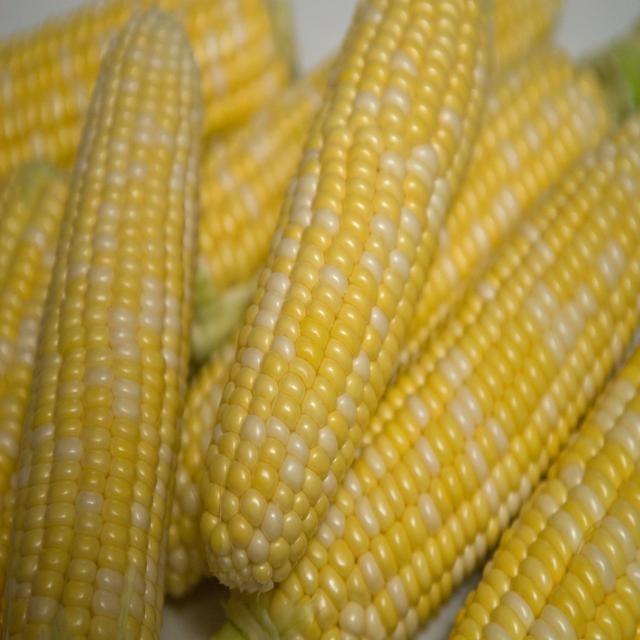corn: (203, 2, 489, 599), (4, 15, 205, 640)
